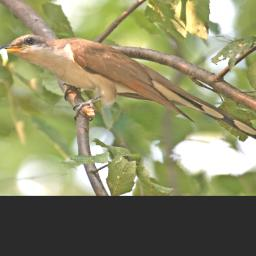Cuckoo: (0, 33, 256, 148)
